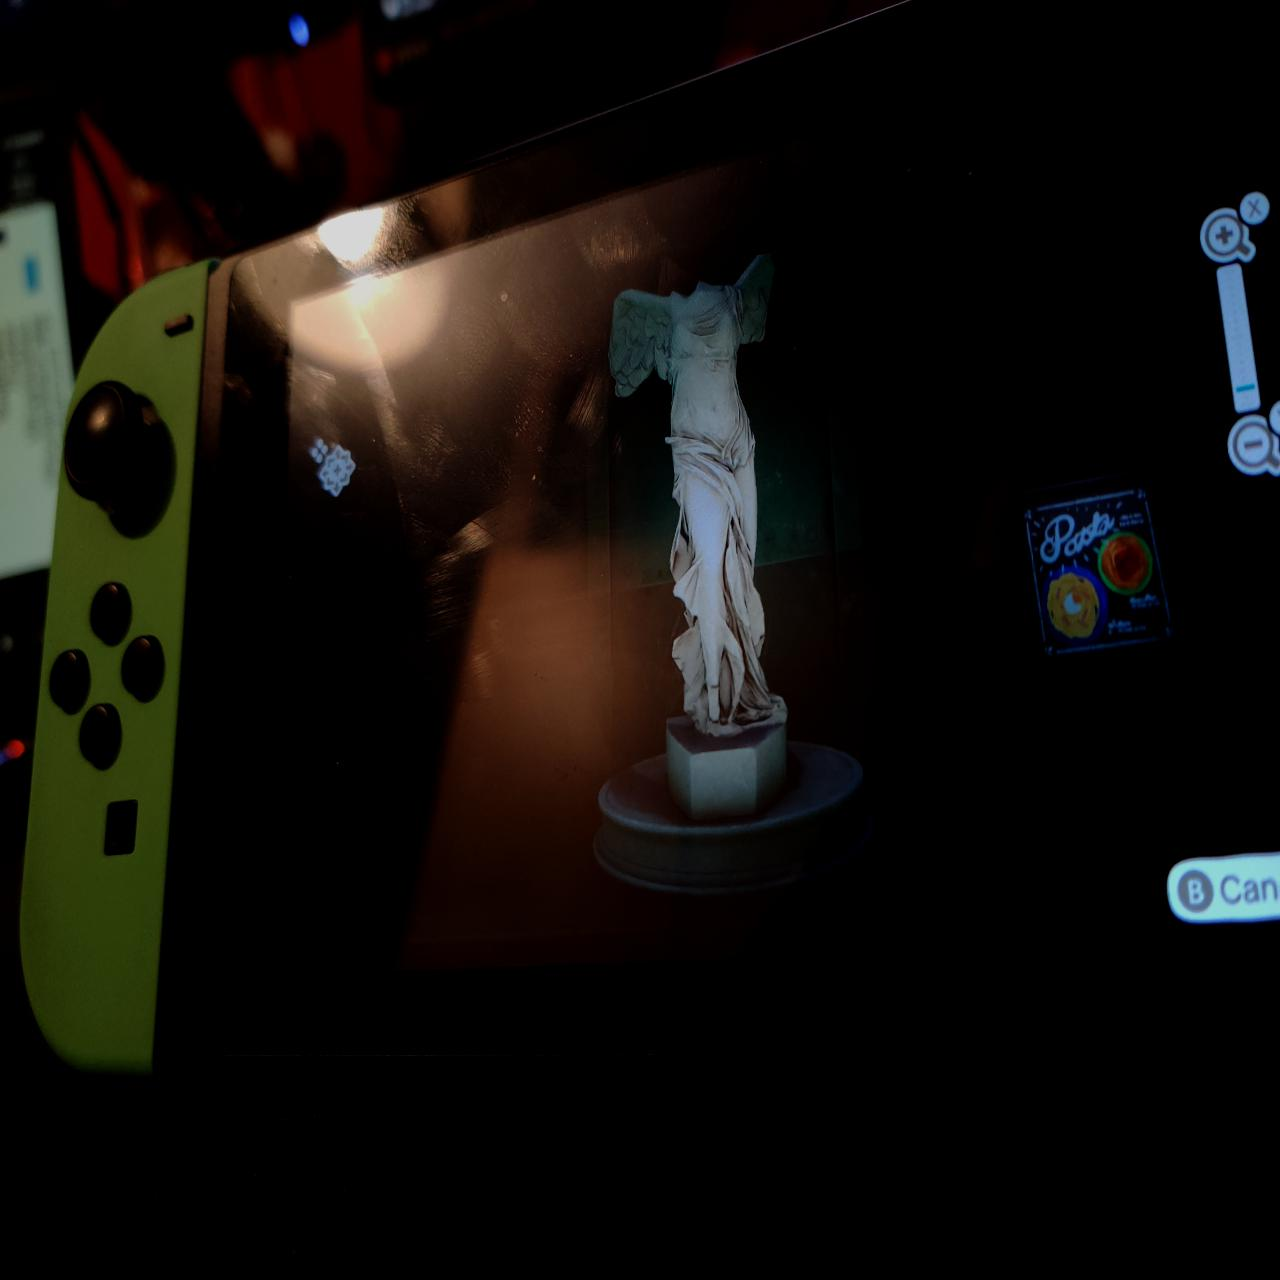Samothrace: (605, 240, 790, 749)
